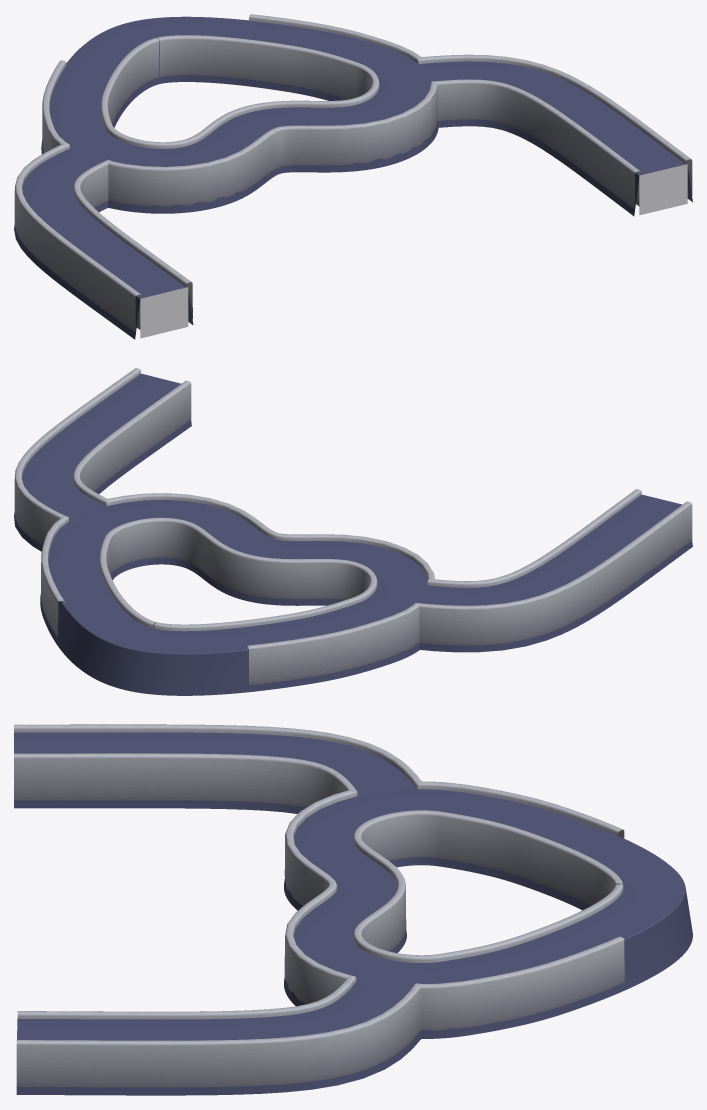
File: NewHeart.fbx
3 renders of one model, top to bottom at view 1: azimuth 30°, elevation 25°; view 2: azimuth 150°, elevation 25°; view 3: azimuth 270°, elevation 25°, orthographic. The views are drawn at different scales.
Visible parts, largest first — view 1: Circle__1_, Path, Path__1_; view 2: Circle__1_, Path__1_, Path; view 3: Circle__1_, Path, Path__1_.
Boxes of the visible parts, x1,y1,x2,y2 form: Circle__1_: (41,14,438,213); Path: (408,54,692,216); Path__1_: (14,143,193,339); Circle__1_: (40,493,434,695); Path__1_: (415,489,692,652); Path: (14,368,191,551); Circle__1_: (284,781,692,1038); Path: (16,975,421,1095); Path__1_: (14,724,421,813).
Size of the model in its own units: 2653 by 199 by 2374.
